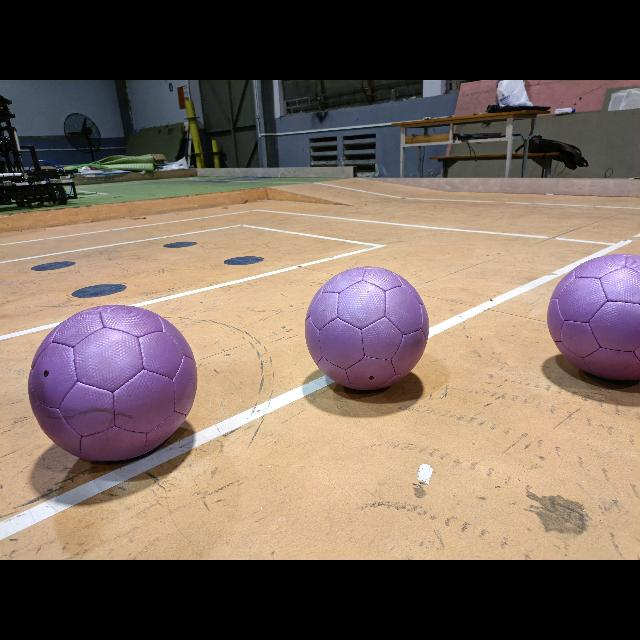P: (28, 305, 195, 461), (306, 266, 428, 389), (548, 254, 640, 380)
